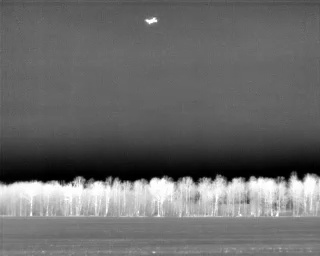DRONE: (141, 13, 162, 29)
